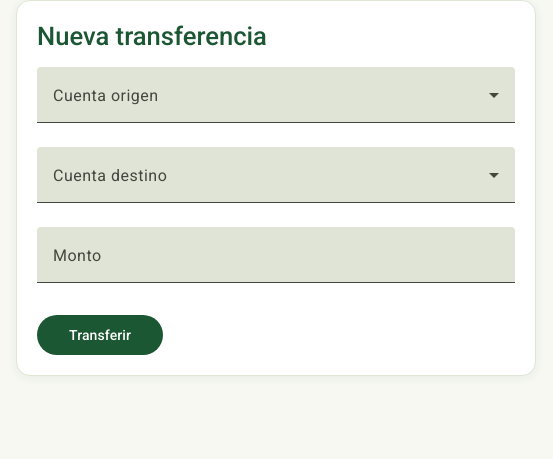
TransferenciaFormComponent › debe_mostrar_el_mensaje_del_backend_como_error_cuando_la_transferencia_es_rechazada_con_422
Select "1000000001 - Titular 1" in the dropdown named "cuentaOrigen" at (276, 103), box [53, 91, 499, 115]
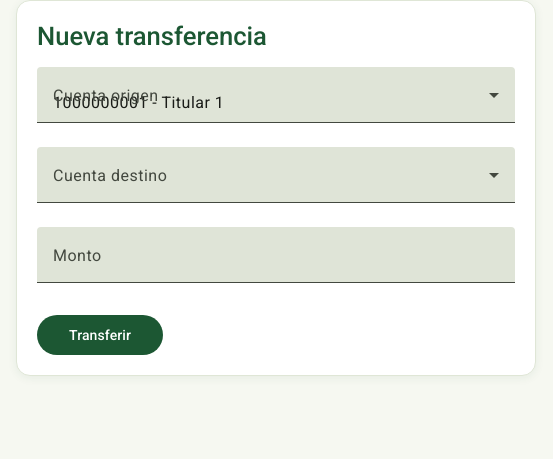
Select "1000000002 - Titular 2" in the dropdown named "cuentaDestino" at (276, 183), box [53, 171, 499, 195]
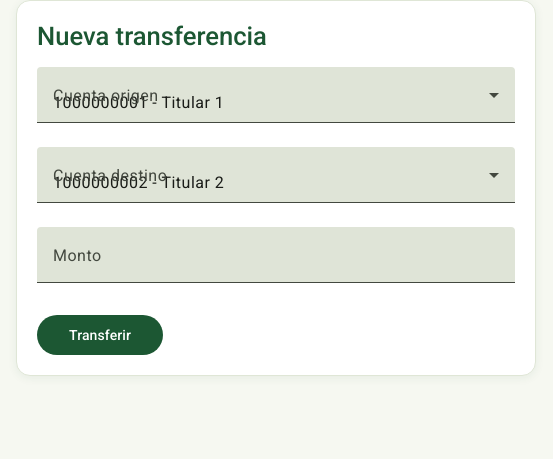
Type "5000" into the field named "monto" at (276, 263), box [53, 251, 499, 275]
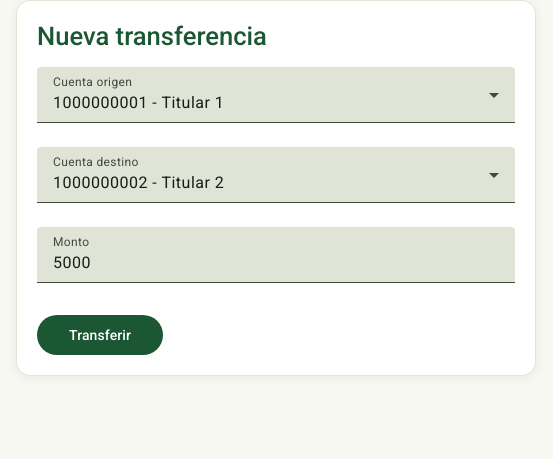
Click the submit button at (100, 335), box [37, 315, 163, 355]
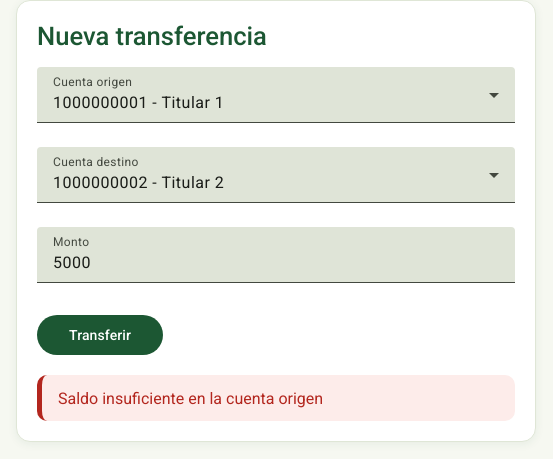
Expected: the message with test id "resultado" reads "Saldo insuficiente en la cuenta origen", [58, 389, 323, 408]
